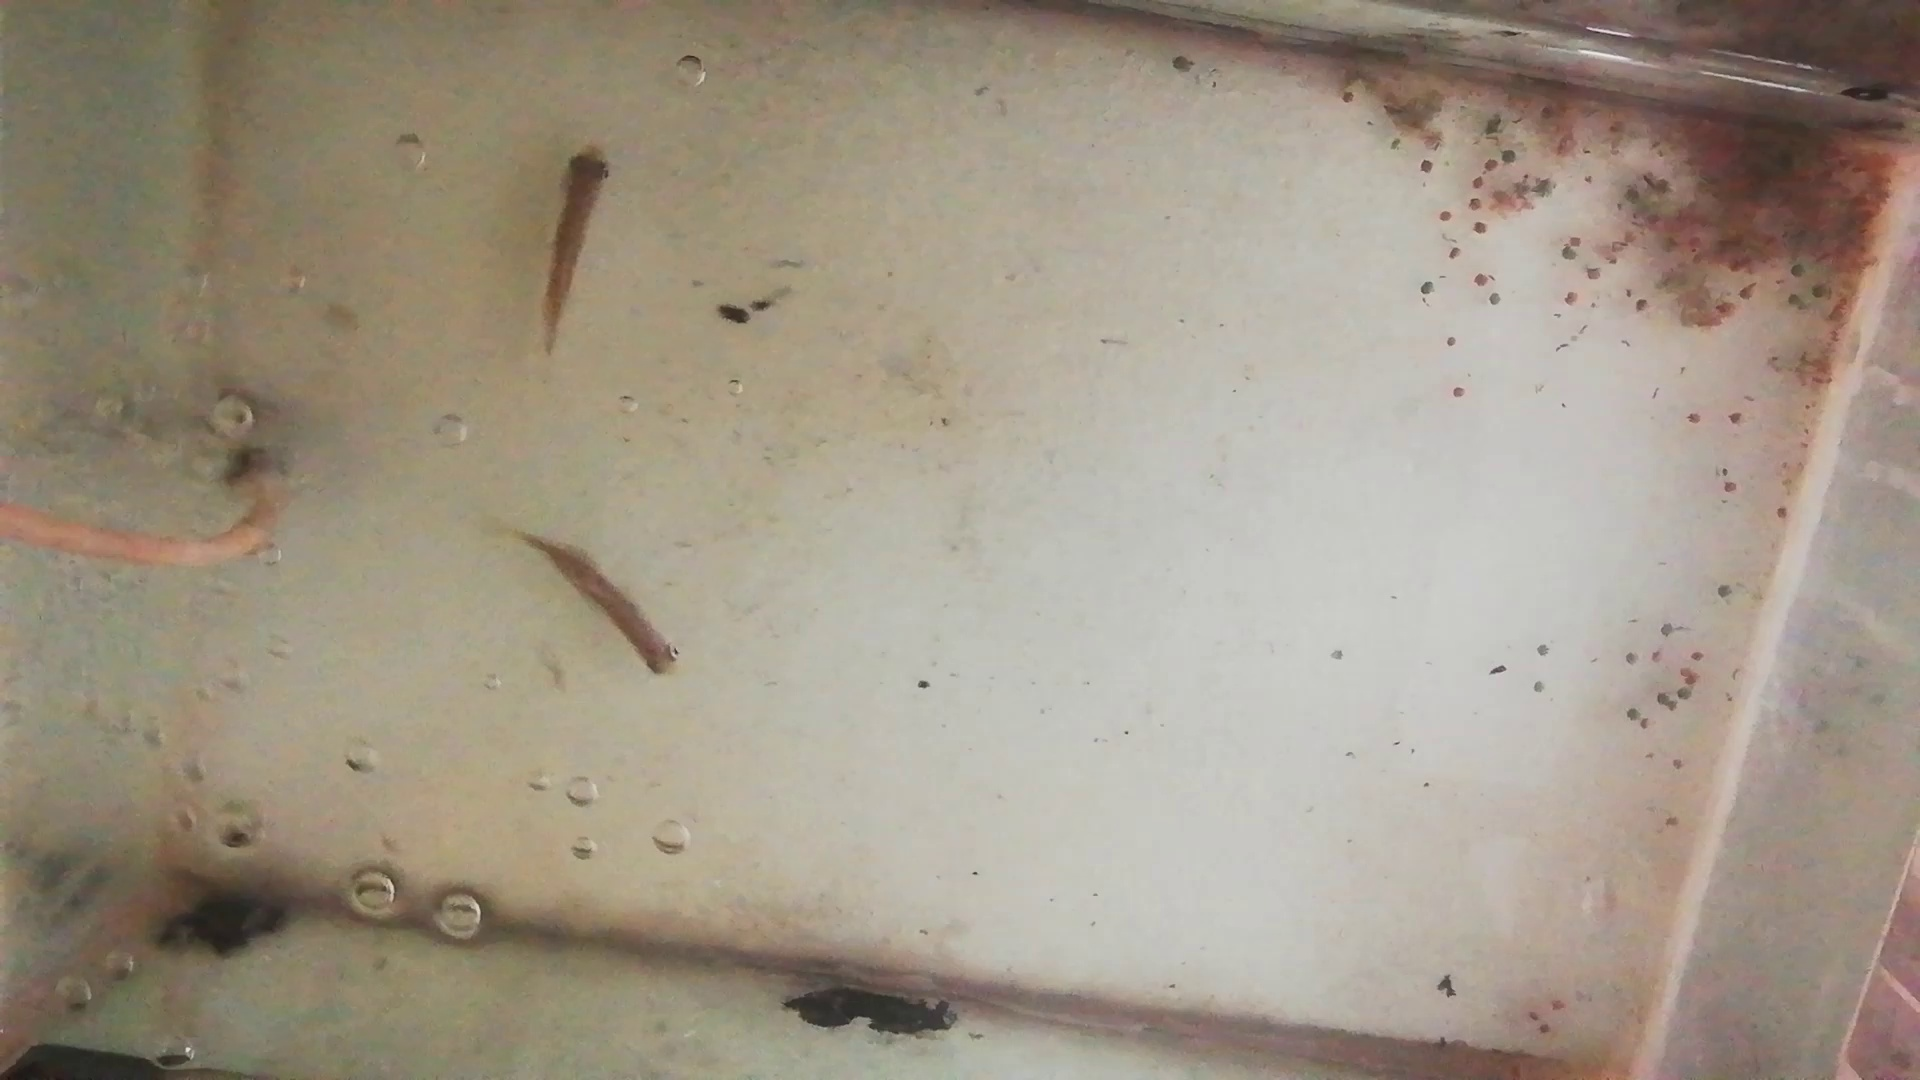fish: (521, 527, 680, 679), (538, 138, 604, 352)
